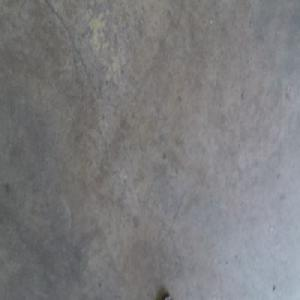Wrench: (164, 294, 171, 299)
